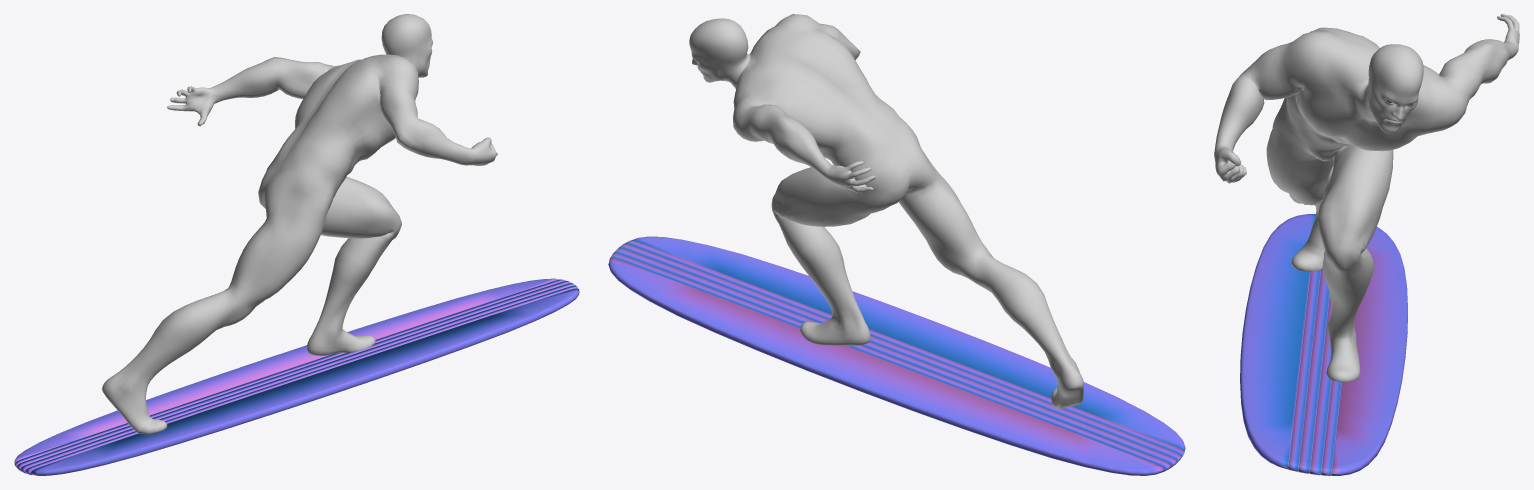
The model's file is silversurfer_glow.obj.
The picture shows the model from 3 angles, left to right: view 1: azimuth 30°, elevation 25°; view 2: azimuth 150°, elevation 25°; view 3: azimuth 270°, elevation 25°; orthographic projection. The views are drawn at different scales.
Parts seen in each view (by area): view 1: silver_surfer_01_pose_Untitled_ss_body, board_low_Untitled.002_ss_board; view 2: silver_surfer_01_pose_Untitled_ss_body, board_low_Untitled.002_ss_board; view 3: silver_surfer_01_pose_Untitled_ss_body, board_low_Untitled.002_ss_board.
Boxes of the visible parts, <box> form: silver_surfer_01_pose_Untitled_ss_body: <box>102,14,497,434</box>; board_low_Untitled.002_ss_board: <box>14,278,579,475</box>; silver_surfer_01_pose_Untitled_ss_body: <box>689,14,1083,408</box>; board_low_Untitled.002_ss_board: <box>608,236,1185,475</box>; silver_surfer_01_pose_Untitled_ss_body: <box>1214,14,1519,382</box>; board_low_Untitled.002_ss_board: <box>1240,214,1407,475</box>.
Size of the model in its own units: 3.69 by 2.22 by 1.44.
